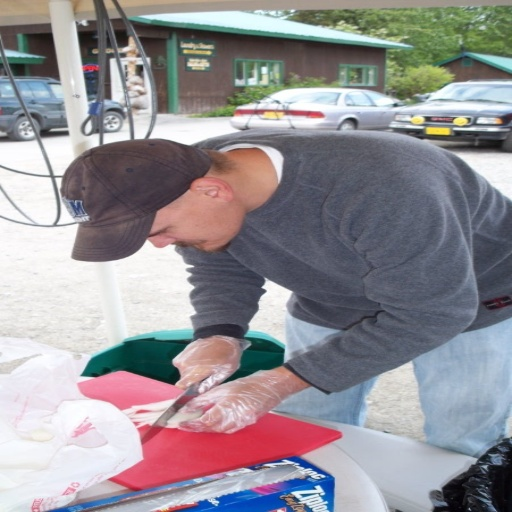hand: (161, 369, 296, 431), (169, 335, 242, 393)
